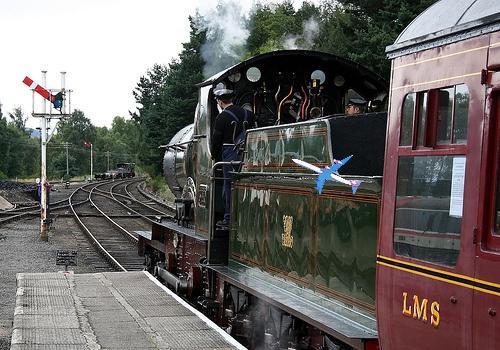tampered: (293, 156, 362, 194)
